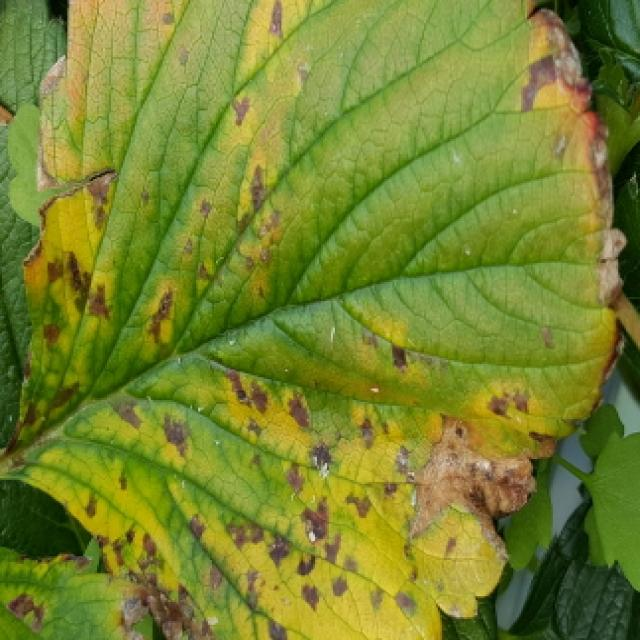Angular Leafspot: (0, 0, 630, 640), (0, 545, 154, 640)
